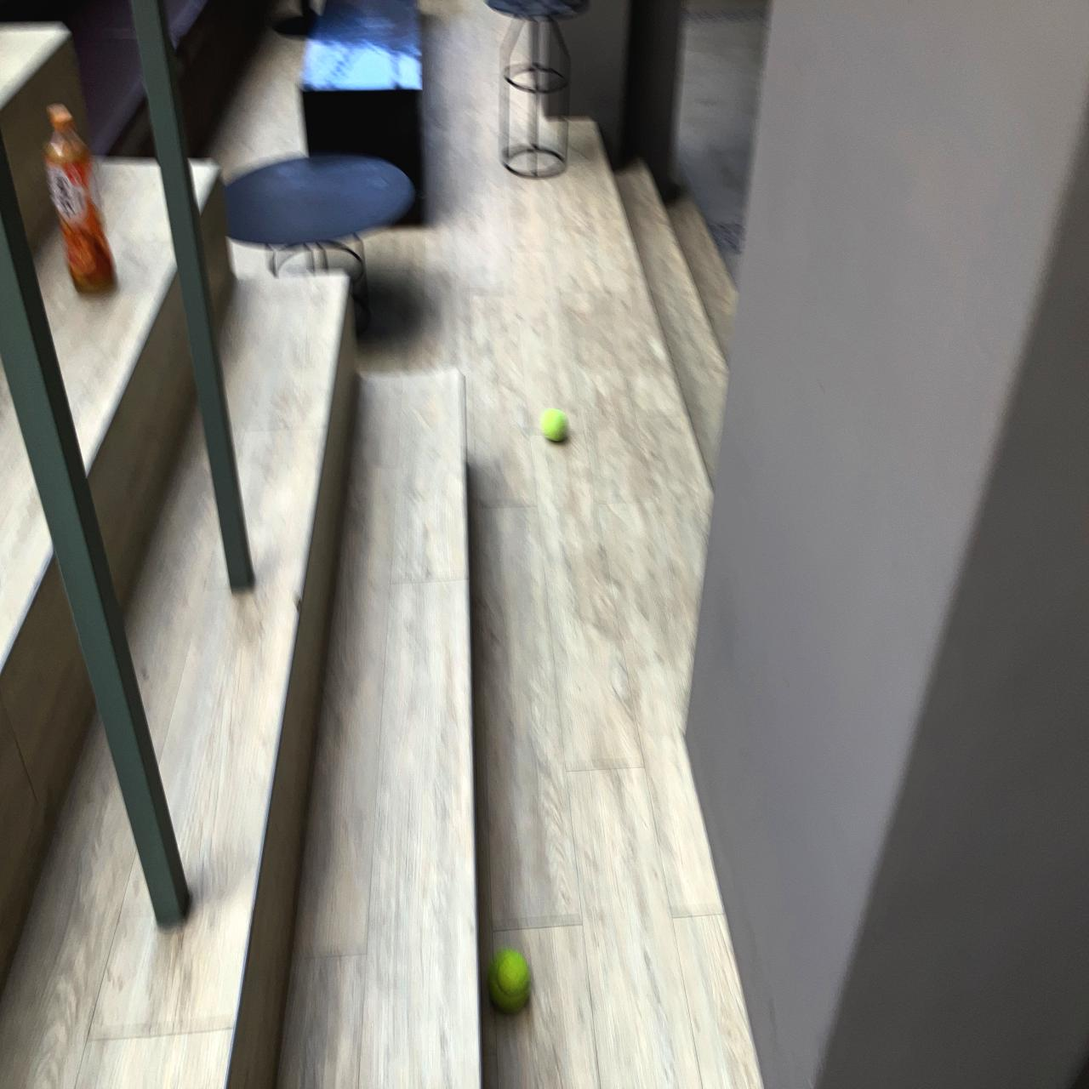plastic-bottle: (597, 59, 739, 152)
tennisball: (56, 651, 106, 707), (485, 720, 511, 757)
